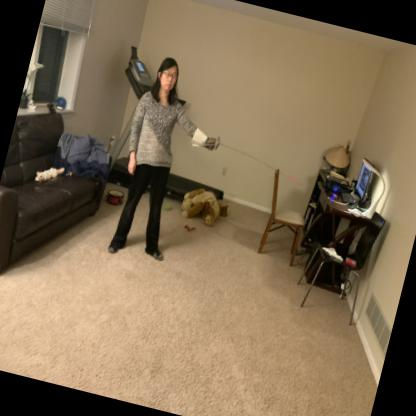foil-tip: (287, 173, 305, 194)
hand-and-foil: (181, 126, 318, 202)
